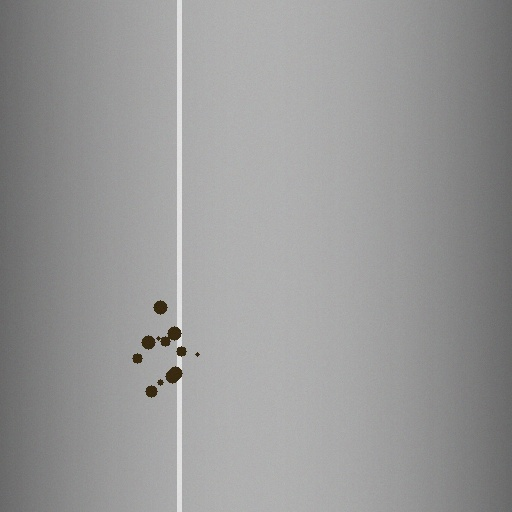contamination: (128, 296, 203, 401)
